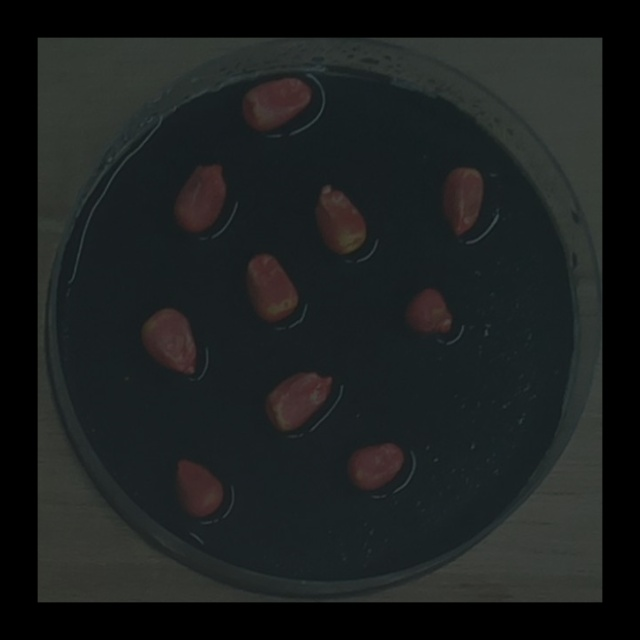Zea mays: (258, 365, 339, 440), (134, 299, 206, 382), (235, 69, 319, 138), (308, 174, 373, 259), (167, 155, 232, 237), (241, 245, 305, 327), (434, 158, 490, 241), (342, 434, 410, 496), (169, 453, 229, 522), (398, 280, 458, 340)
